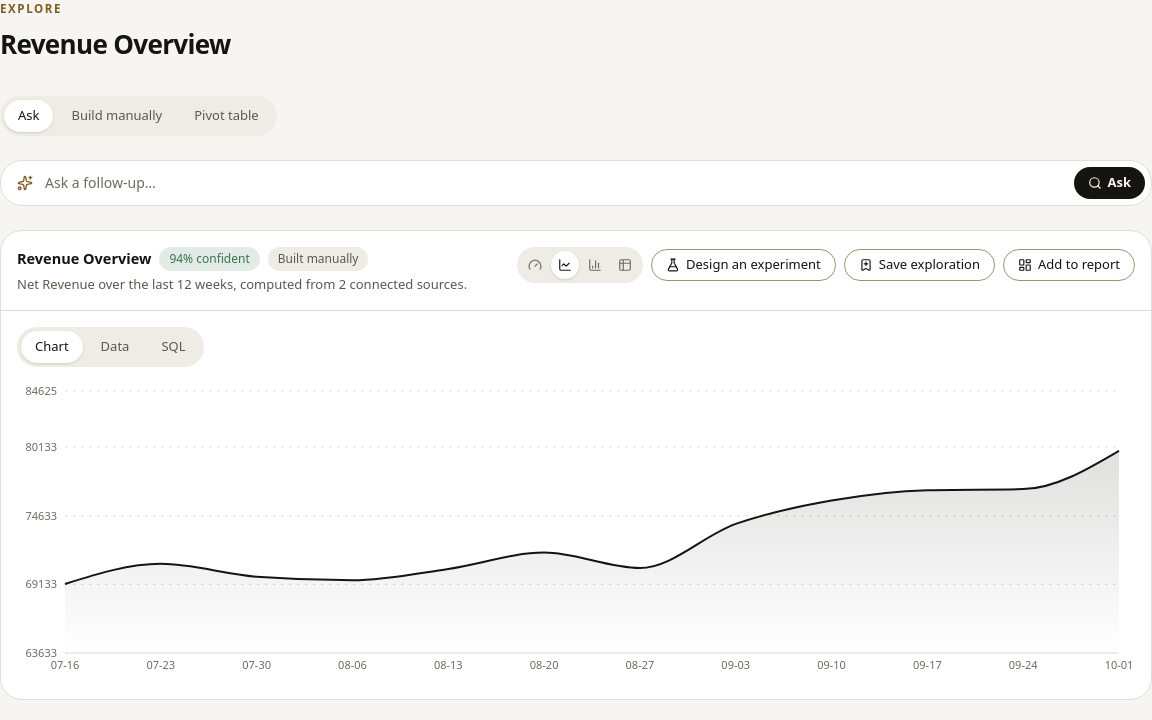
Test case: ExplorePage › seeds the Build tab with the original metric when reopening a manually-built exploration
Expected: the text "94% confident" is shown, x1=159 y1=247 x2=260 y2=271
Click the tab "Build manually": click(117, 116) x1=58 y1=100 x2=176 y2=132
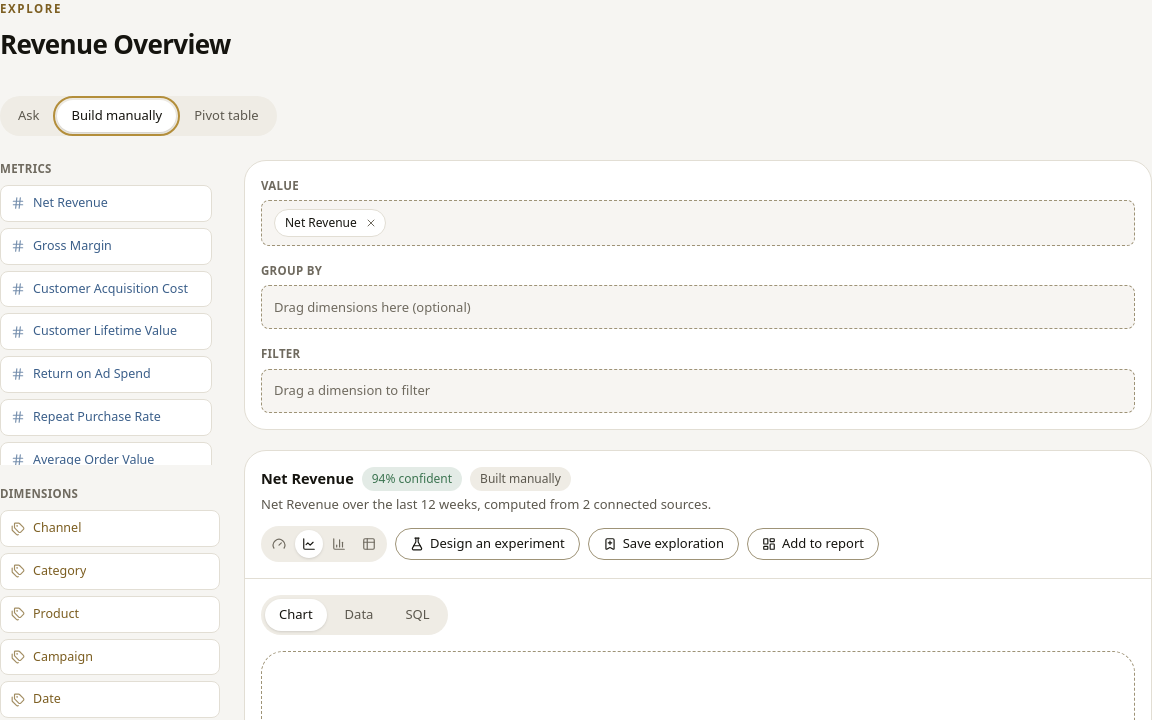
Now the button named "Remove Net Revenue" is shown, box x1=363 y1=215 x2=379 y2=231
